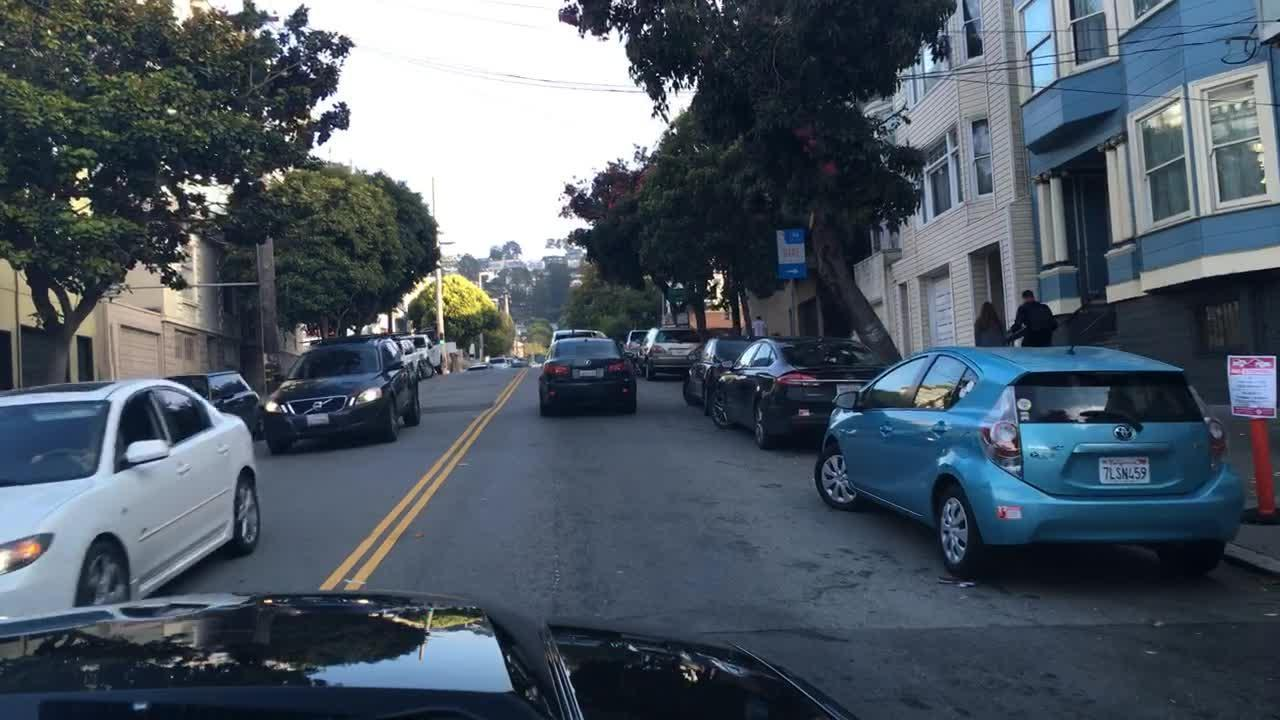Toyota: (1102, 413, 1139, 447)
volvo: (298, 396, 333, 415)
